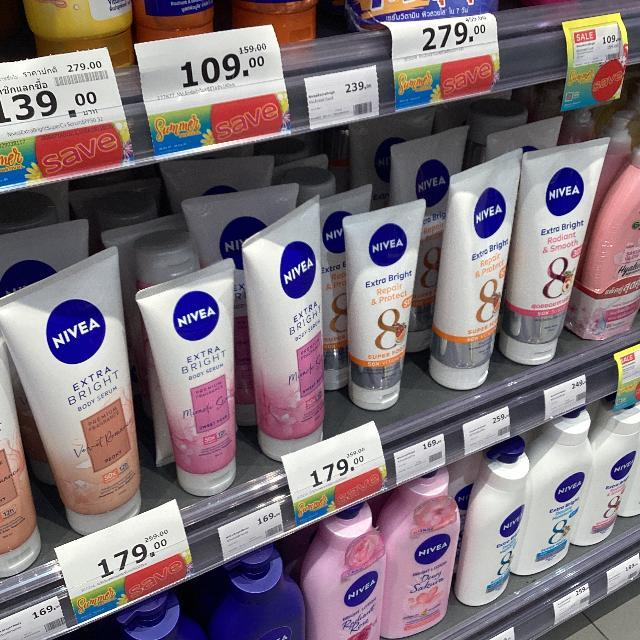Squeeze Tube: (0, 115, 640, 370), (7, 244, 145, 547), (131, 258, 262, 504), (243, 187, 335, 455), (499, 139, 603, 369), (435, 143, 511, 399), (347, 199, 426, 413)
